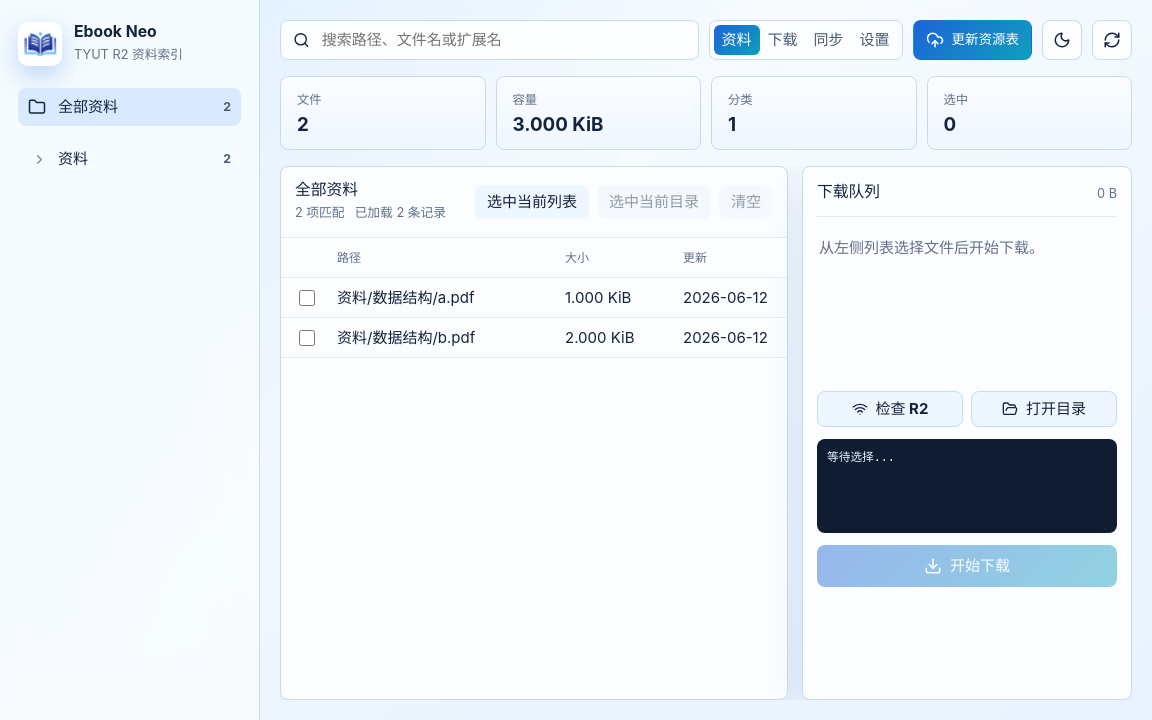
Test: App › opens the configured sync folder from the sync view
Expected: the text "资料/数据结构/a.pdf" is shown, [337,288,474,306]
Click the button "同步" at (828, 40), box [806,25,852,55]
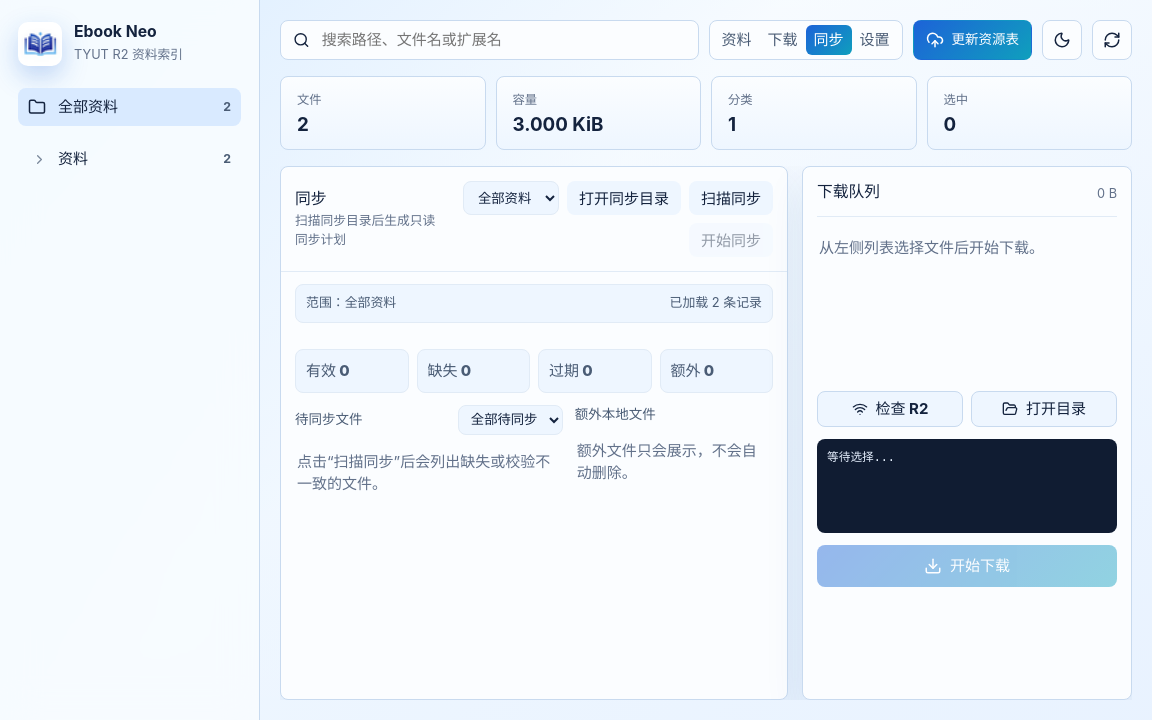
Click the button "打开同步目录" at (624, 198), box [567,182,681,216]
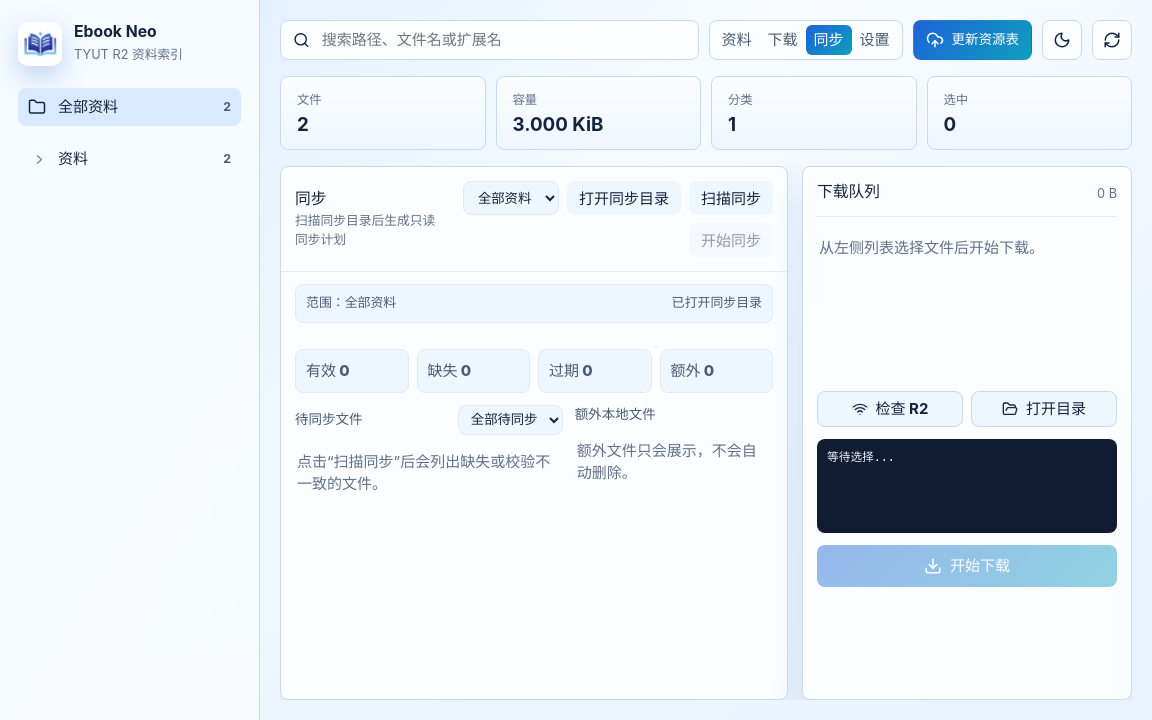
Expected: the text "已打开同步目录" is shown, [672,294,762,313]
